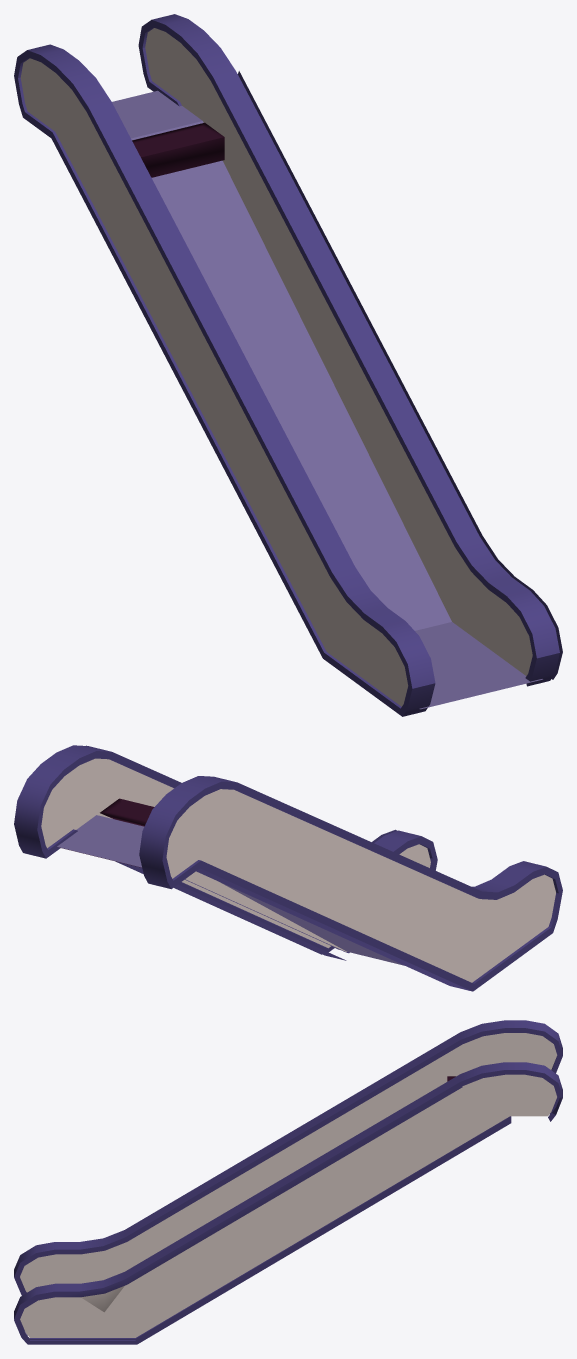
Rendered from Escalator.fbx.
3 renders of one model, top to bottom at view 1: azimuth 30°, elevation 25°; view 2: azimuth 150°, elevation 25°; view 3: azimuth 270°, elevation 25°, orthographic. The views are drawn at different scales.
Visible parts, largest first — view 1: Escalator.002, Escalator.003; view 2: Escalator.002, Escalator.003; view 3: Escalator.002.
Boxes of the visible parts, bbox=[...] form: Escalator.002: bbox=[14, 14, 562, 716]; Escalator.003: bbox=[132, 122, 224, 177]; Escalator.002: bbox=[14, 745, 562, 991]; Escalator.003: bbox=[100, 798, 154, 826]; Escalator.002: bbox=[14, 1020, 562, 1344].
Bounding box in the file's own units: 7.61 × 18.84 × 34.27.
1 material, 1 textured.
